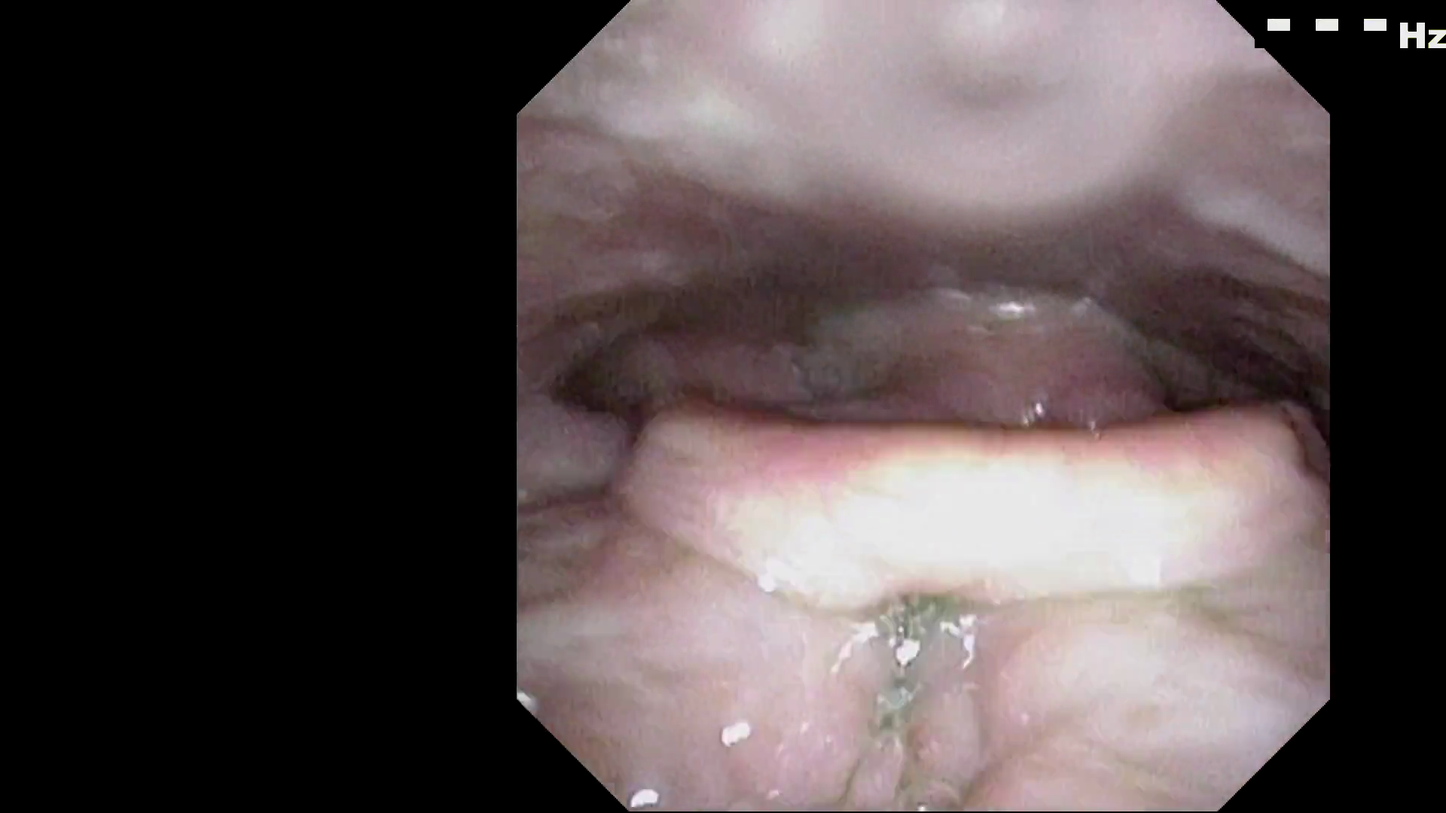epiglottis: (670, 482, 1274, 717), (699, 369, 1249, 536)
